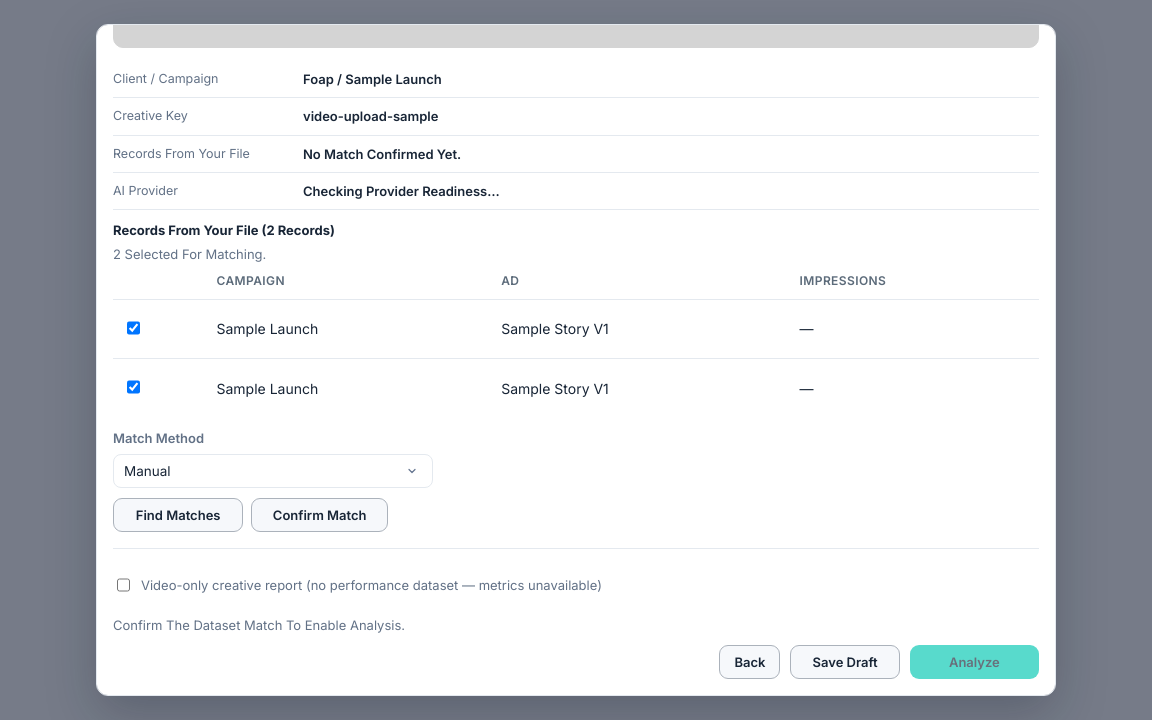
Test case: VideoUpload guided panel › changing the record selection clears the confirmed match
(page scrolled)
Click the button "Confirm Match" at (320, 515), box [251,498,388,532]
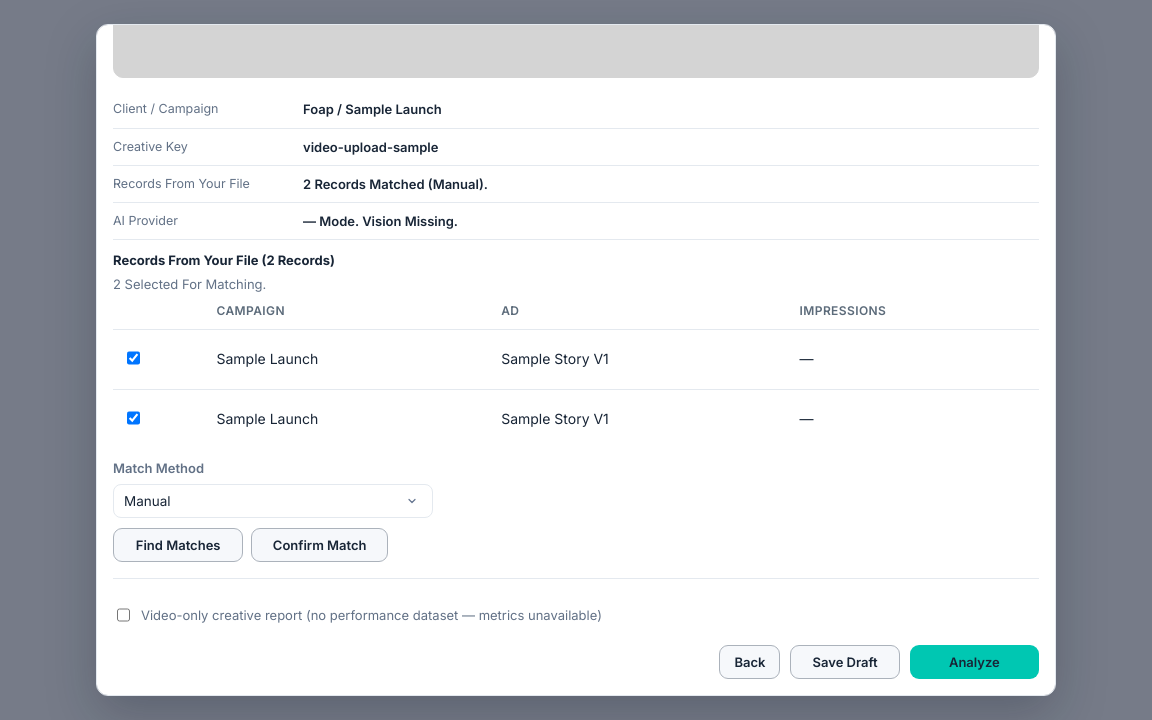
Click the 1st checkbox named "Select Record Sample Story V1" at (134, 358), box [127,341,140,375]
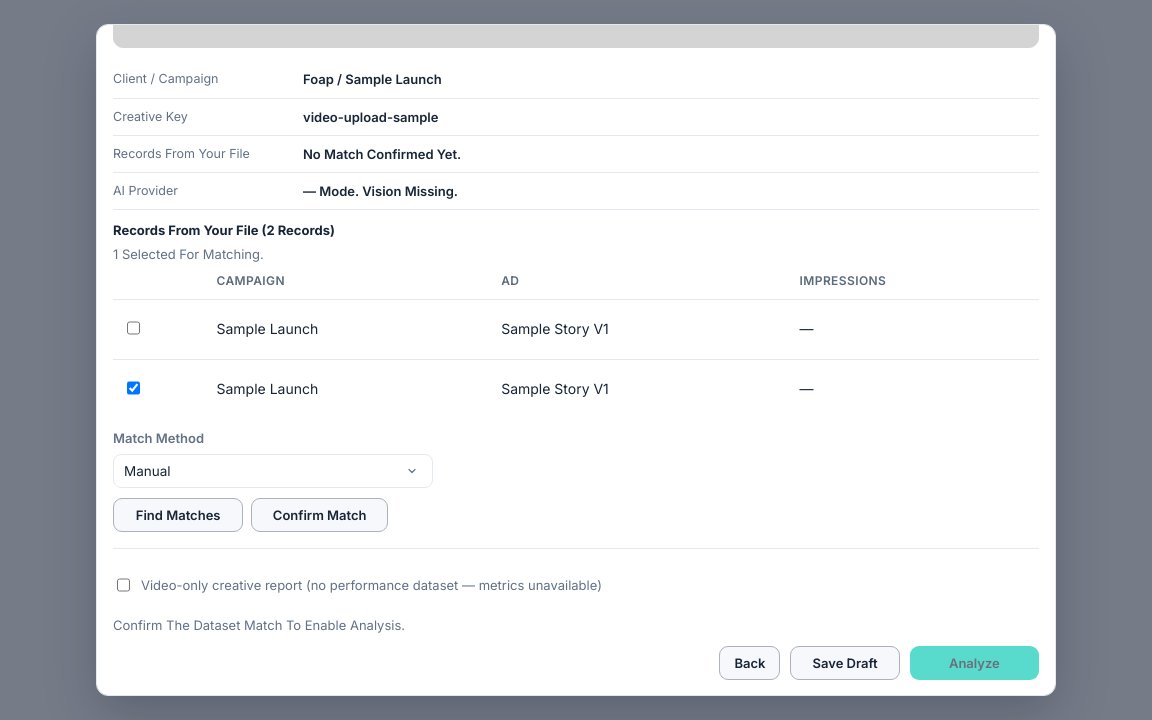
expect the text "No Match Confirmed Yet." is shown: met, box [303,146,461,162]
expect the button "Analyze" is disabled: met, box [910,646,1039,680]
